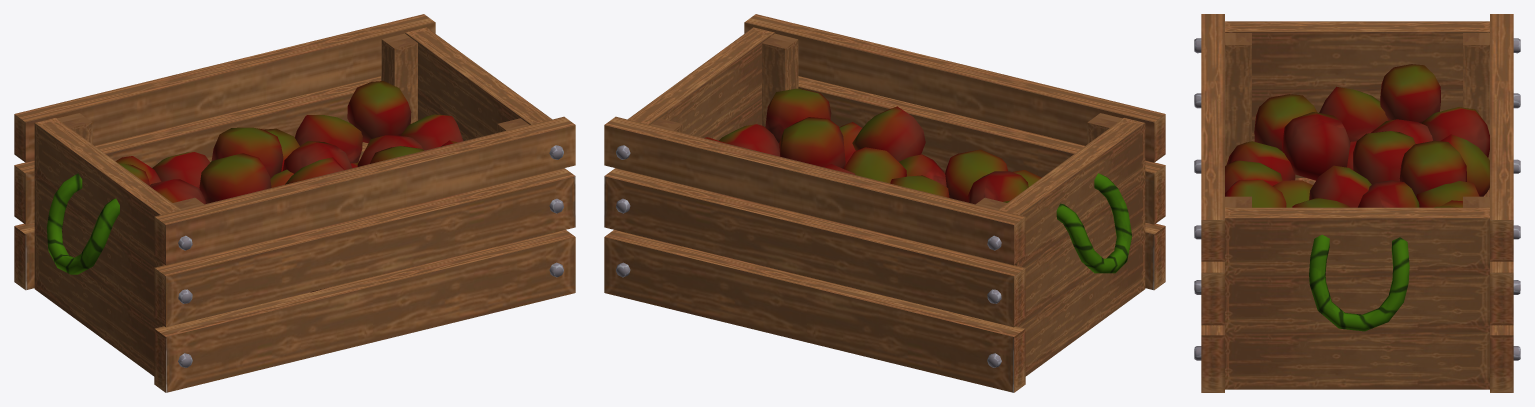
The model's file is FarmCrate_Apple.gltf.
The picture shows the model from 3 angles, left to right: view 1: azimuth 30°, elevation 25°; view 2: azimuth 150°, elevation 25°; view 3: azimuth 270°, elevation 25°; orthographic projection. The views are drawn at different scales.
Parts seen in each view (by area): view 1: FarmCrate_Apple; view 2: FarmCrate_Apple; view 3: FarmCrate_Apple.
Boxes of the visible parts, x1,y1,x2,y2 form: FarmCrate_Apple: (14,14,575,392); FarmCrate_Apple: (604,14,1165,392); FarmCrate_Apple: (1194,14,1520,392).
Size of the model in its own units: 0.7138 by 0.2438 by 0.4142.
Materials: 3 (3 with a texture image).
